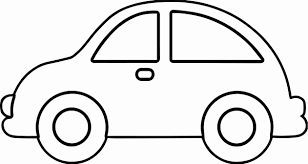car: (0, 0, 308, 164)
